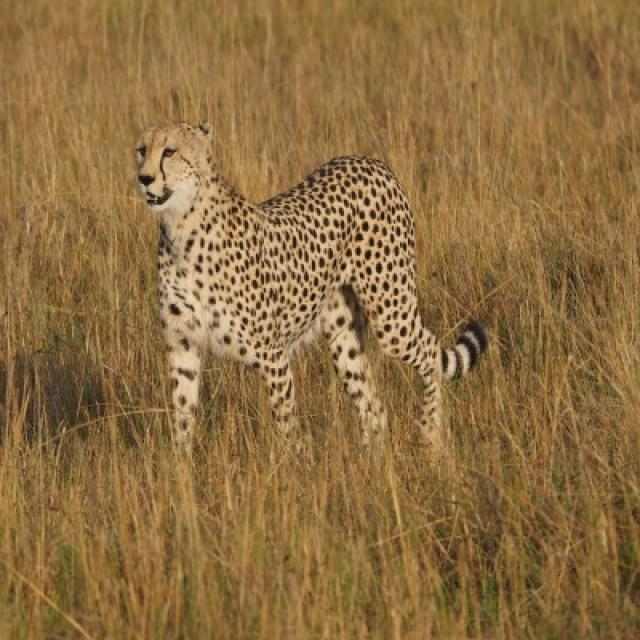Cheetah: (136, 123, 488, 443)
